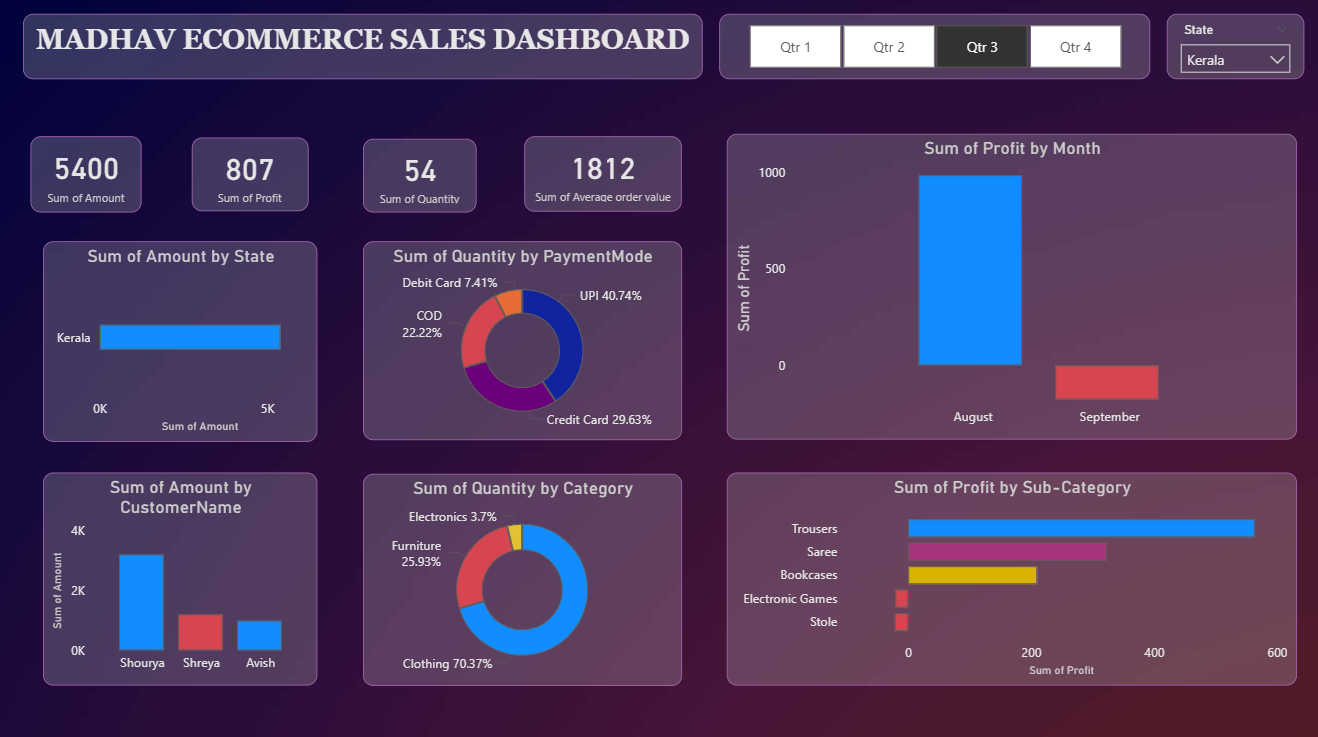

The dashboard page shown, as its layout file describes it:
{"tool":"powerbi","page":{"name":"Page 1","canvas":[1280,720],"ordinal":0},"visuals":[{"type":"textbox","box":[24.7,17.8,655.9,63.1],"z":0},{"type":"clusteredColumnChart","fields":{"Category":["Orders.Order Date.Variation.Date Hierarchy.Month"],"Y":["Details.Profit"]},"box":[703.8,133.9,550.3,295],"z":1000},{"type":"barChart","fields":{"Category":["Details.Sub-Category"],"Y":["Details.Profit"]},"box":[703.8,460.5,550.3,205.8],"z":2000},{"type":"donutChart","fields":{"Category":["Details.Category"],"Y":["Details.Quantity"]},"box":[352.3,462.1,307.6,205.1],"z":3000},{"type":"donutChart","fields":{"Y":["Details.Quantity"],"Category":["Details.PaymentMode"]},"box":[352.3,237.7,307.6,191.8],"z":4000},{"type":"card","fields":{"Values":["Details.Amount"]},"box":[31,135.8,107.5,73.3],"z":5000},{"type":"card","fields":{"Values":["Details.Profit"]},"box":[186.6,137.2,112.5,71.4],"z":6000},{"type":"card","fields":{"Values":["Details.Quantity"]},"box":[352.7,138.6,109.8,71.4],"z":7000},{"type":"card","fields":{"Values":["Details.Average order value"]},"box":[507.7,135.8,152.3,72.7],"z":8000},{"type":"barChart","fields":{"Y":["Details.Amount"],"Category":["Orders.State"]},"box":[43.9,237.4,264.8,193.5],"z":9000},{"type":"clusteredColumnChart","fields":{"Y":["Details.Amount"],"Category":["Orders.CustomerName"]},"box":[43.9,461.1,264.8,205.8],"z":10000},{"type":"slicer","fields":{"Values":["Orders.Order Date.Variation.Date Hierarchy.Quarter"]},"box":[695.7,17.8,415.8,63.1],"z":11000},{"type":"slicer","fields":{"Values":["Orders.State"]},"box":[1128,17.8,133.1,63.1],"z":12000}]}

Visuals, with their boxes in screenshot pixels (x1, y1, x2, y2), scaled from the page's 1280x720 canvas onto the 1318x737 screenshot:
textbox: (25,18,701,83)
clusteredColumnChart - Orders.Order Date.Variation.Date Hierarchy.Month x Details.Profit: (725,137,1291,439)
barChart - Details.Sub-Category x Details.Profit: (725,471,1291,682)
donutChart - Details.Category x Details.Quantity: (363,473,679,683)
donutChart - Details.Quantity x Details.PaymentMode: (363,243,679,440)
card - Details.Amount: (32,139,143,214)
card - Details.Profit: (192,140,308,214)
card - Details.Quantity: (363,142,476,215)
card - Details.Average order value: (523,139,680,213)
barChart - Details.Amount x Orders.State: (45,243,318,441)
clusteredColumnChart - Details.Amount x Orders.CustomerName: (45,472,318,683)
slicer - Orders.Order Date.Variation.Date Hierarchy.Quarter: (716,18,1144,83)
slicer - Orders.State: (1161,18,1299,83)
